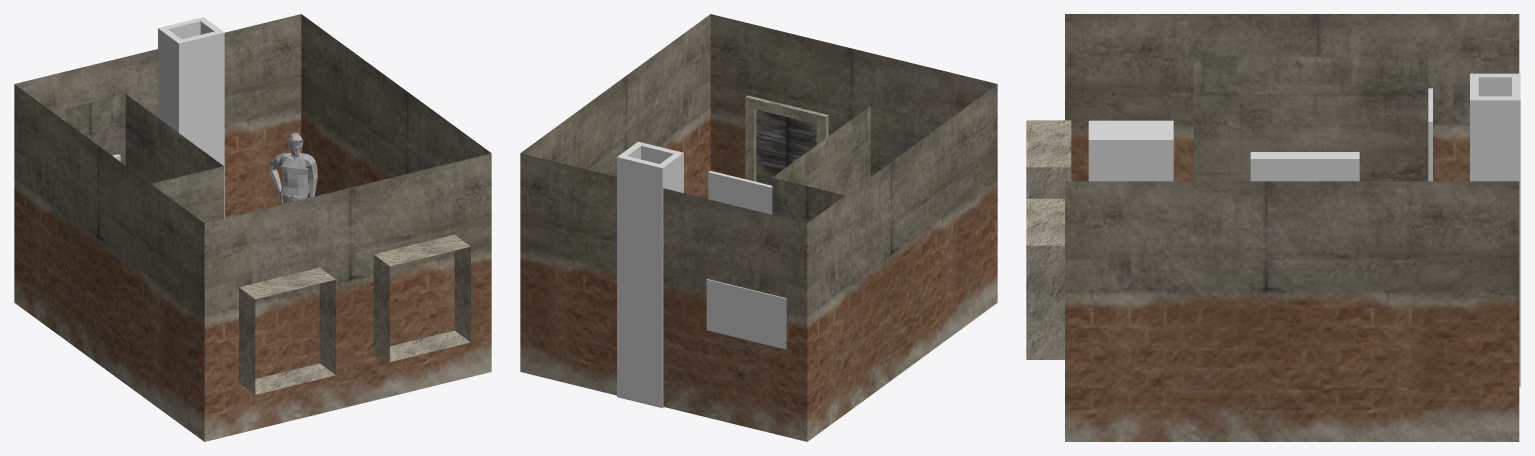
The model's file is house_2.2ndfloor.interior.fbx.
The picture shows the model from 3 angles, left to right: view 1: azimuth 30°, elevation 25°; view 2: azimuth 150°, elevation 25°; view 3: azimuth 270°, elevation 25°; orthographic projection. The views are drawn at different scales.
Parts seen in each view (by area): view 1: house_1.004, house_1.006, fireplace_1.002, Mesh01.008; view 2: house_1.004, fireplace_1.002, house_1.006, store_2.002, bed_1.001; view 3: house_1.004, house_1.006, fireplace_1.002, sideboard_1.003, store_2.003.
Part boxes in pixels (<box>): house_1.004: <box>14,14,491,441</box>; house_1.006: <box>53,94,223,223</box>; fireplace_1.002: <box>158,17,224,218</box>; Mesh01.008: <box>268,133,317,204</box>; house_1.004: <box>520,14,997,441</box>; fireplace_1.002: <box>617,141,683,408</box>; house_1.006: <box>772,105,943,223</box>; store_2.002: <box>706,279,786,349</box>; bed_1.001: <box>708,170,772,214</box>; house_1.004: <box>1026,14,1519,441</box>; house_1.006: <box>1193,56,1428,181</box>; fireplace_1.002: <box>1470,73,1520,386</box>; sideboard_1.003: <box>1088,120,1173,181</box>; store_2.003: <box>1250,152,1359,181</box>.
Size of the model in its own units: 3.92 by 3.13 by 4.9.
